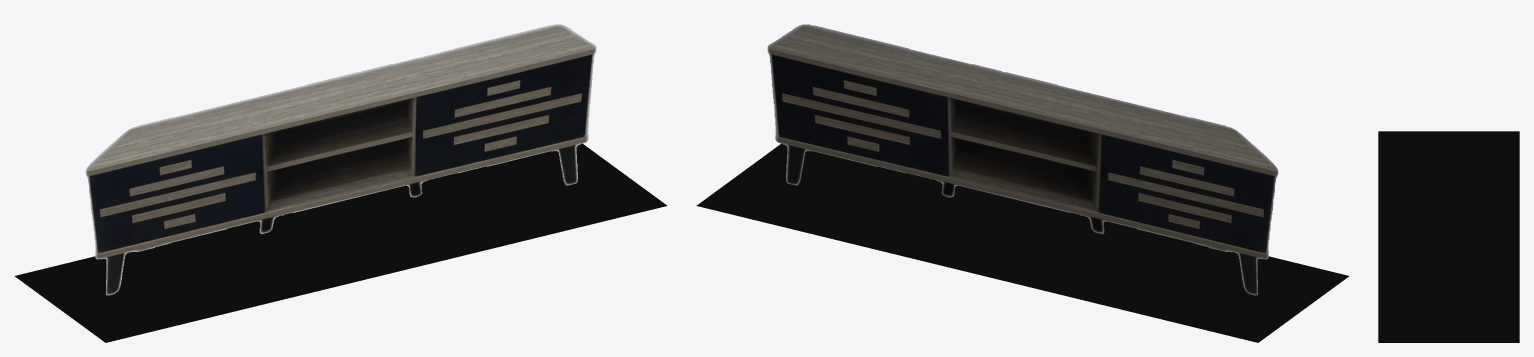
File: arm-c3f3763815.glb
3 views of the same model, side by side, from view 1: azimuth 30°, elevation 25°; view 2: azimuth 150°, elevation 25°; view 3: azimuth 270°, elevation 25° (orthographic). The views are drawn at different scales.
Bounding box in the file's own units: 2.14 × 0.6 × 0.602.
2 materials, 2 textured.
